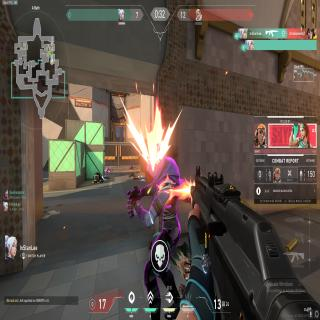ENEMY-BODY: (122, 136, 190, 291)
ENEMY-HEAD: (144, 146, 166, 182)
